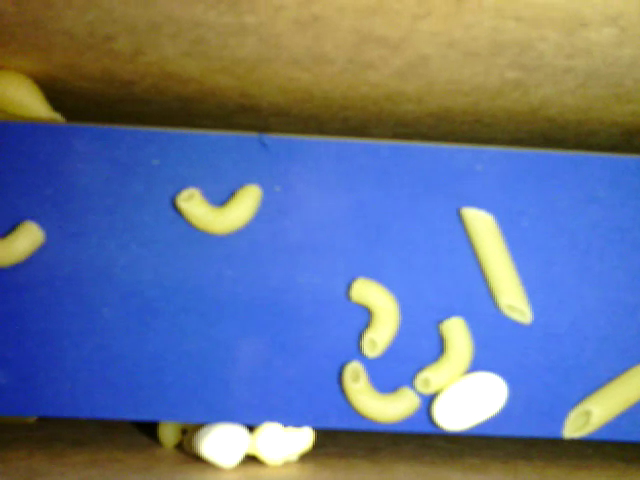elbow: (414, 314, 475, 397), (344, 359, 421, 422), (175, 184, 262, 237), (347, 273, 400, 358), (1, 218, 47, 268)
penne: (460, 206, 534, 327), (563, 374, 638, 440)
shell: (3, 64, 70, 126)
